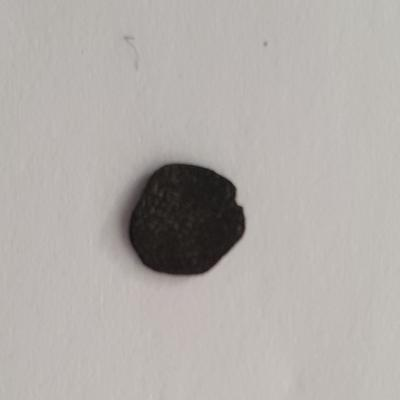plastic: (120, 160, 250, 281)
